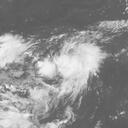cyclone: (54, 41, 101, 81)
